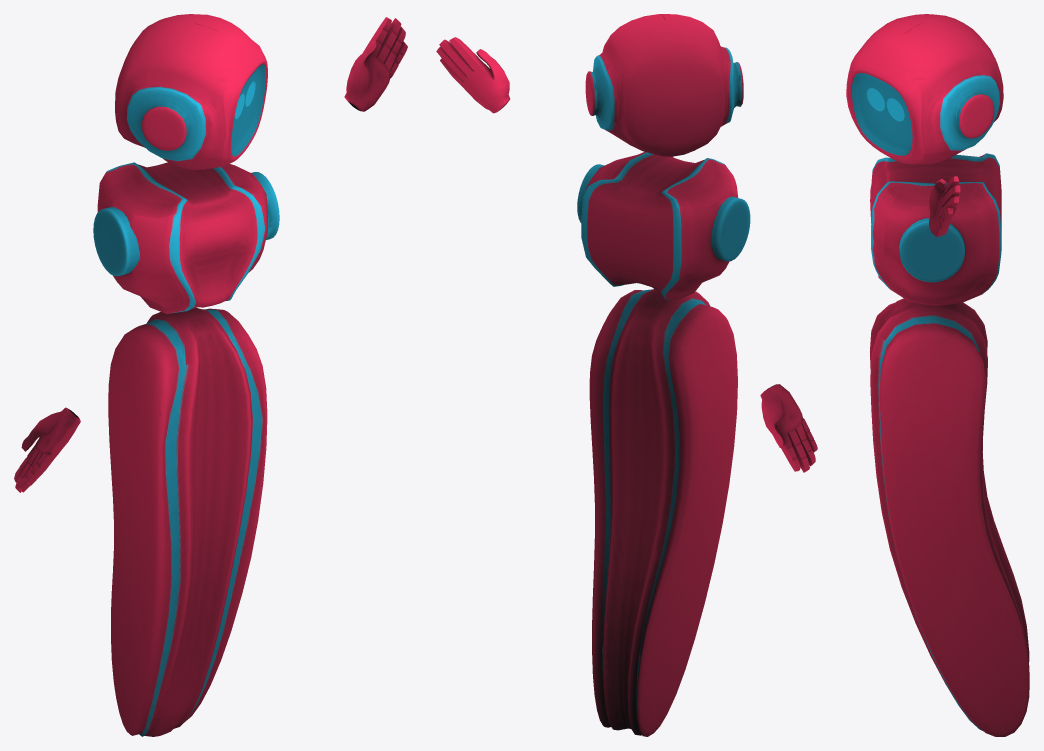
The model's file is asvr.gltf.
The picture shows the model from 3 angles, left to right: view 1: azimuth 30°, elevation 25°; view 2: azimuth 150°, elevation 25°; view 3: azimuth 270°, elevation 25°; orthographic projection. The views are drawn at different scales.
Parts seen in each view (by area): view 1: Body; view 2: Body; view 3: Body.
Part boxes in pixels (x1,y1,x2,y2): Body: (14,14,407,736); Body: (436,14,817,736); Body: (846,14,1029,736).
Size of the model in its own units: 0.4113 by 0.7309 by 0.1717.
1 material, 1 textured.
